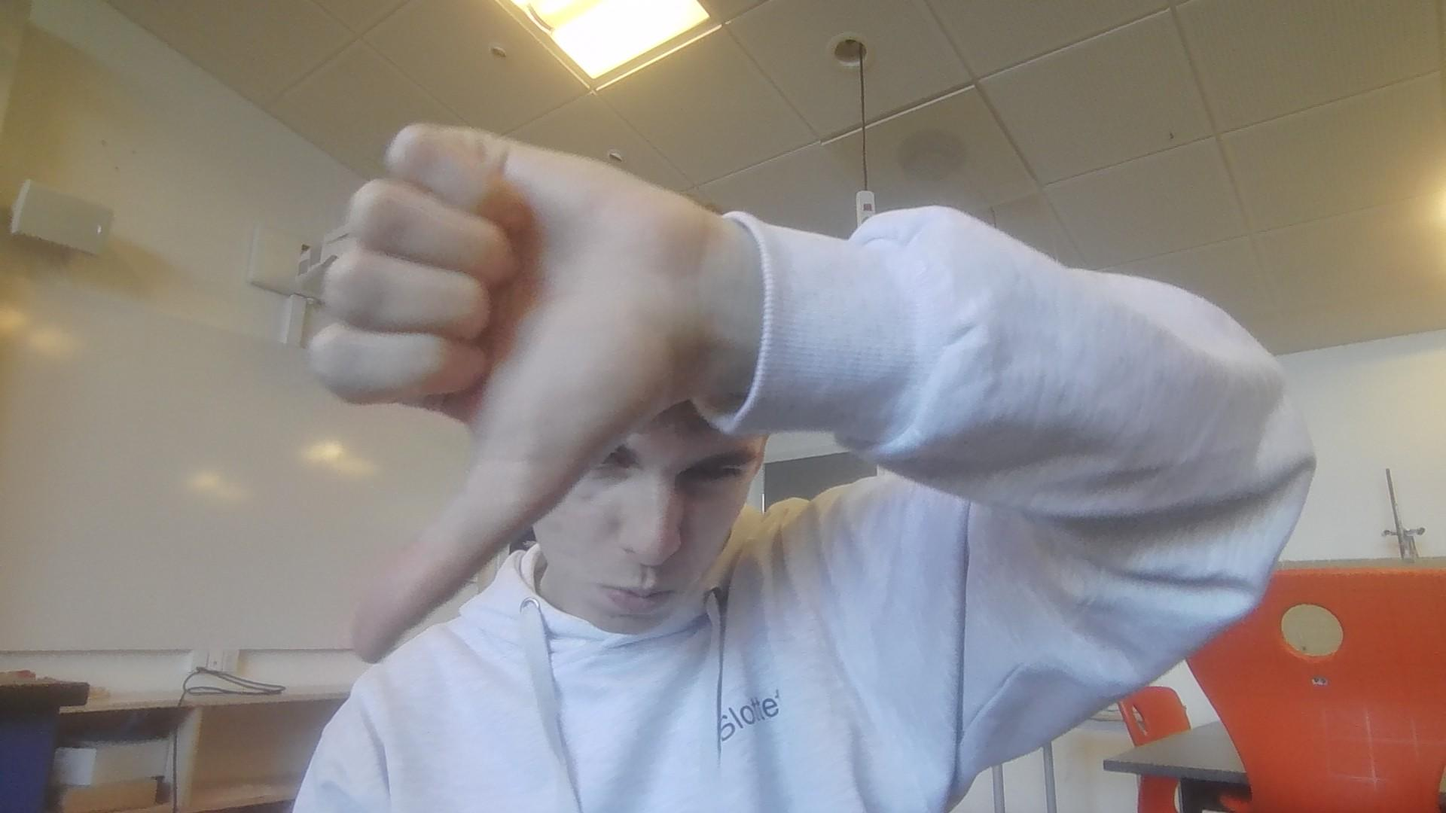thumbs down: (313, 119, 743, 662)
